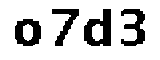3: (119, 8, 148, 50)
7: (47, 7, 82, 48)
d: (84, 8, 114, 49)
o: (11, 18, 43, 47)
